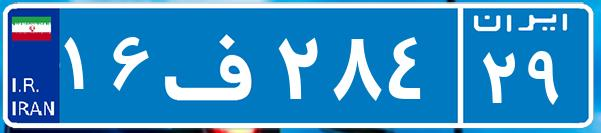1: (57, 26, 110, 107)
2: (273, 28, 330, 110), (475, 38, 525, 113)
4: (385, 28, 445, 110)
6: (110, 28, 158, 105)
8: (330, 28, 385, 110)
9: (525, 38, 570, 115)
ف: (158, 15, 273, 115)
